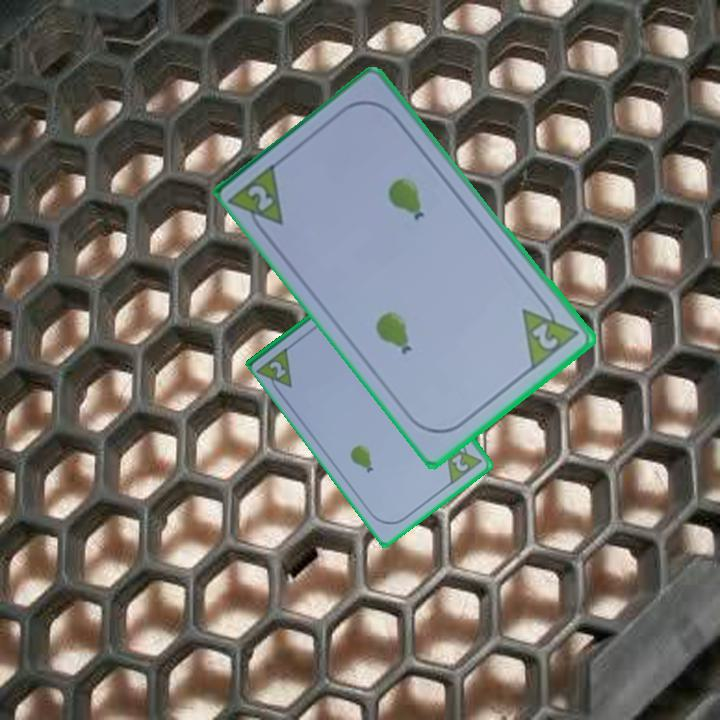2p: (518, 293, 583, 373), (244, 181, 277, 215), (448, 450, 472, 475), (266, 357, 289, 381)
